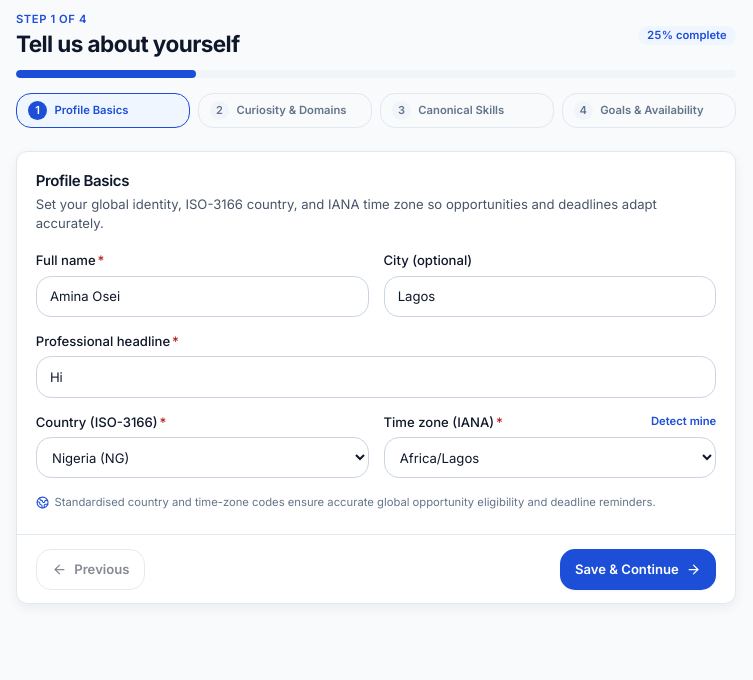
Test: M1.3 four-step onboarding wizard › surfaces server validation errors and preserves user input without advancing
Click the button "Save & Continue" at point(638, 569), box [560,548,716,590]
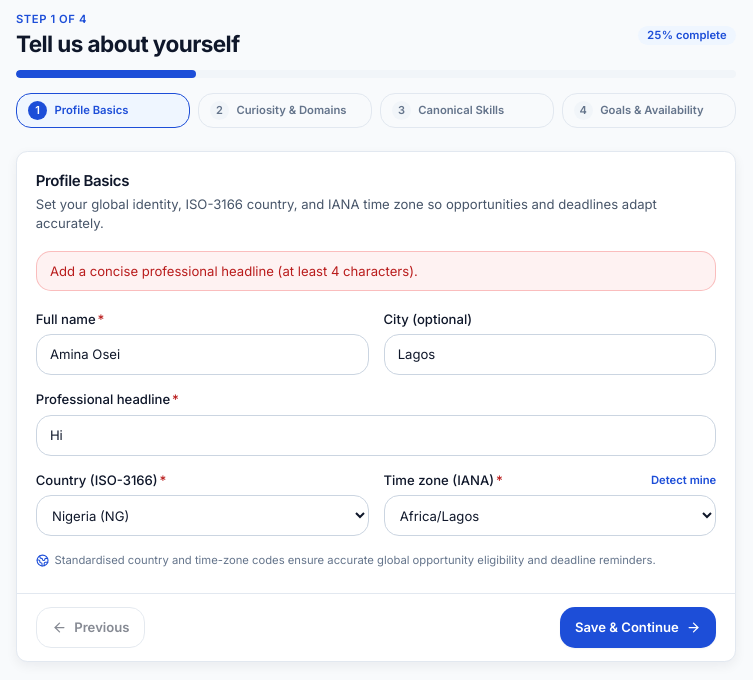
Expected: the text "Step 1 of 4" is shown, [16,12,87,26]
Result: the message shows "professional headline" at [50,263,418,279]
